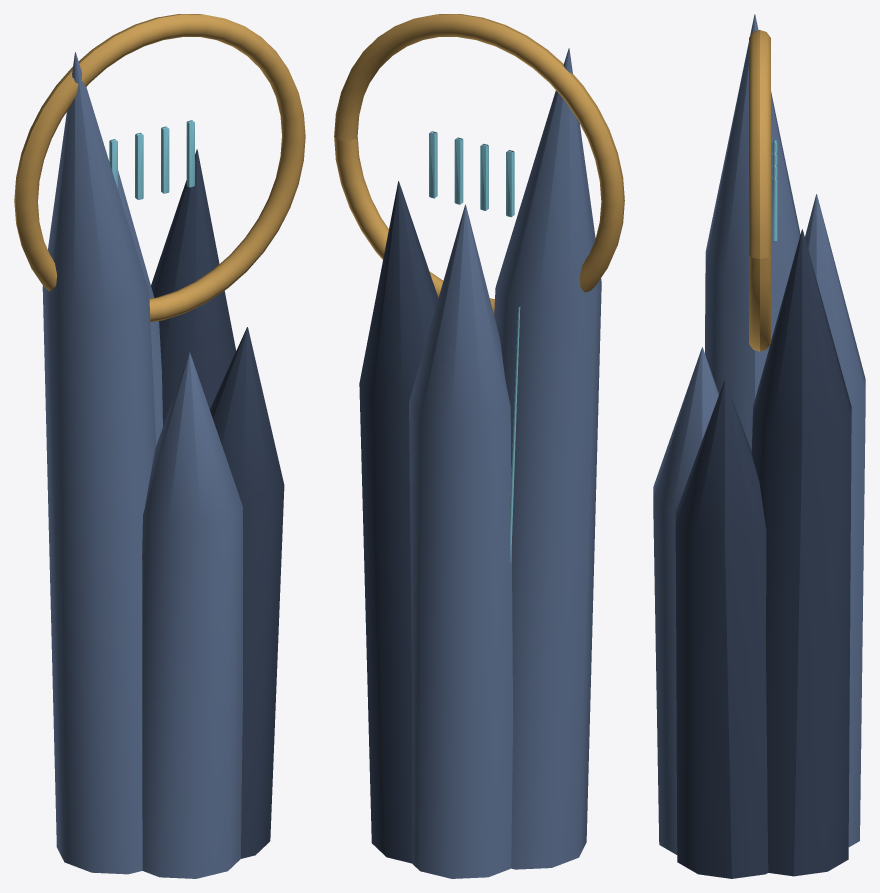
Rendered from prop_2_5.glb.
3 renders of one model, left to right at view 1: azimuth 30°, elevation 25°; view 2: azimuth 150°, elevation 25°; view 3: azimuth 270°, elevation 25°, orthographic. The views are drawn at different scales.
Visible parts, largest first — view 1: MoonShard (×5), MoonDial, MoonDialMark (×3); view 2: MoonShard (×3), MoonDial, MoonDialMark (×4), CrystalVein; view 3: MoonShard (×5), MoonDial.
Boxes of the visible parts, box(x1,y1,x2,y2) form: MoonShard (×5): box(42, 52, 284, 878); MoonDial: box(14, 14, 305, 322); MoonDialMark (×3): box(135, 120, 194, 199); MoonShard (×3): box(359, 48, 601, 878); MoonDial: box(334, 14, 624, 315); MoonDialMark (×4): box(429, 131, 514, 217); CrystalVein: box(510, 307, 520, 563); MoonShard (×5): box(653, 14, 865, 878); MoonDial: box(749, 30, 770, 351).
Size of the model in its own units: 2.8 by 7.6 by 1.85.
